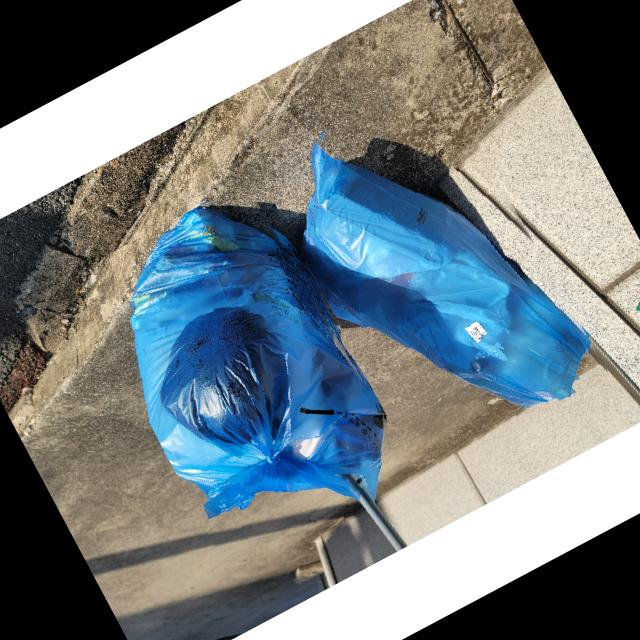other_trashbag: (133, 204, 384, 516), (304, 139, 590, 405)
